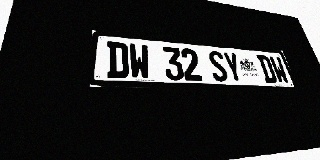2: (180, 48, 202, 81)
3: (162, 46, 185, 80)
D: (107, 41, 129, 79), (256, 55, 278, 83)
S: (207, 50, 229, 82)
W: (128, 43, 151, 79), (268, 56, 290, 84)
Y: (222, 52, 244, 82)
